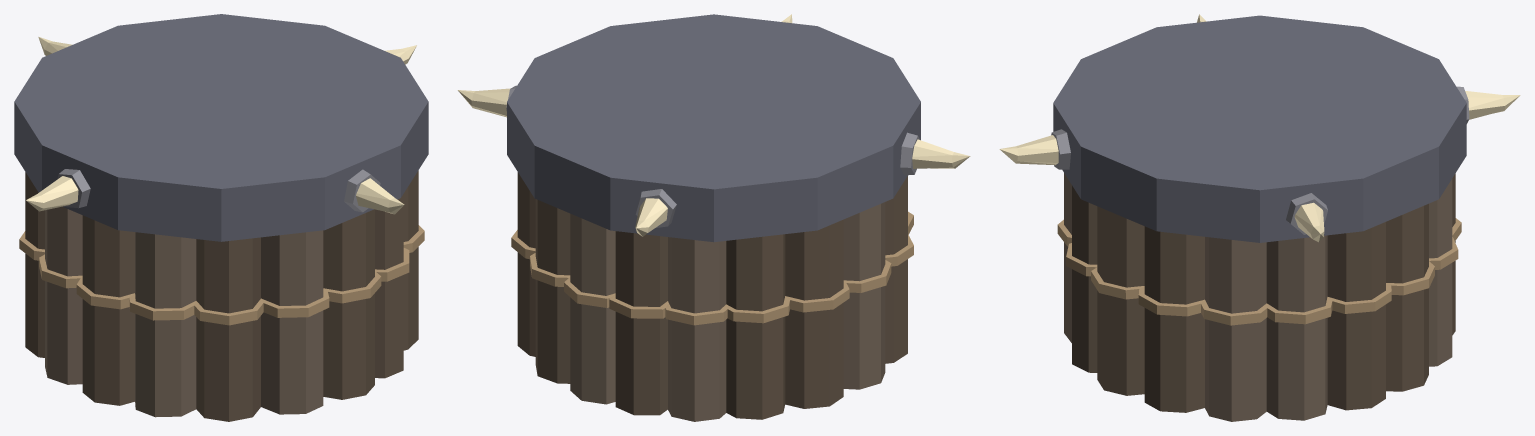
The model's file is _TOWER_3_OSNOVA_01.fbx.
3 views of the same model, side by side, from view 1: azimuth 30°, elevation 25°; view 2: azimuth 150°, elevation 25°; view 3: azimuth 270°, elevation 25° (orthographic).
Parts seen in each view (by area): view 1: TOWER_3_OSNOVA_01; view 2: TOWER_3_OSNOVA_01; view 3: TOWER_3_OSNOVA_01.
Part boxes in pixels (bbox=[...]): TOWER_3_OSNOVA_01: bbox=[14, 14, 428, 421]; TOWER_3_OSNOVA_01: bbox=[457, 14, 970, 421]; TOWER_3_OSNOVA_01: bbox=[999, 14, 1520, 421].
Size of the model in its own units: 530 by 266 by 530.
